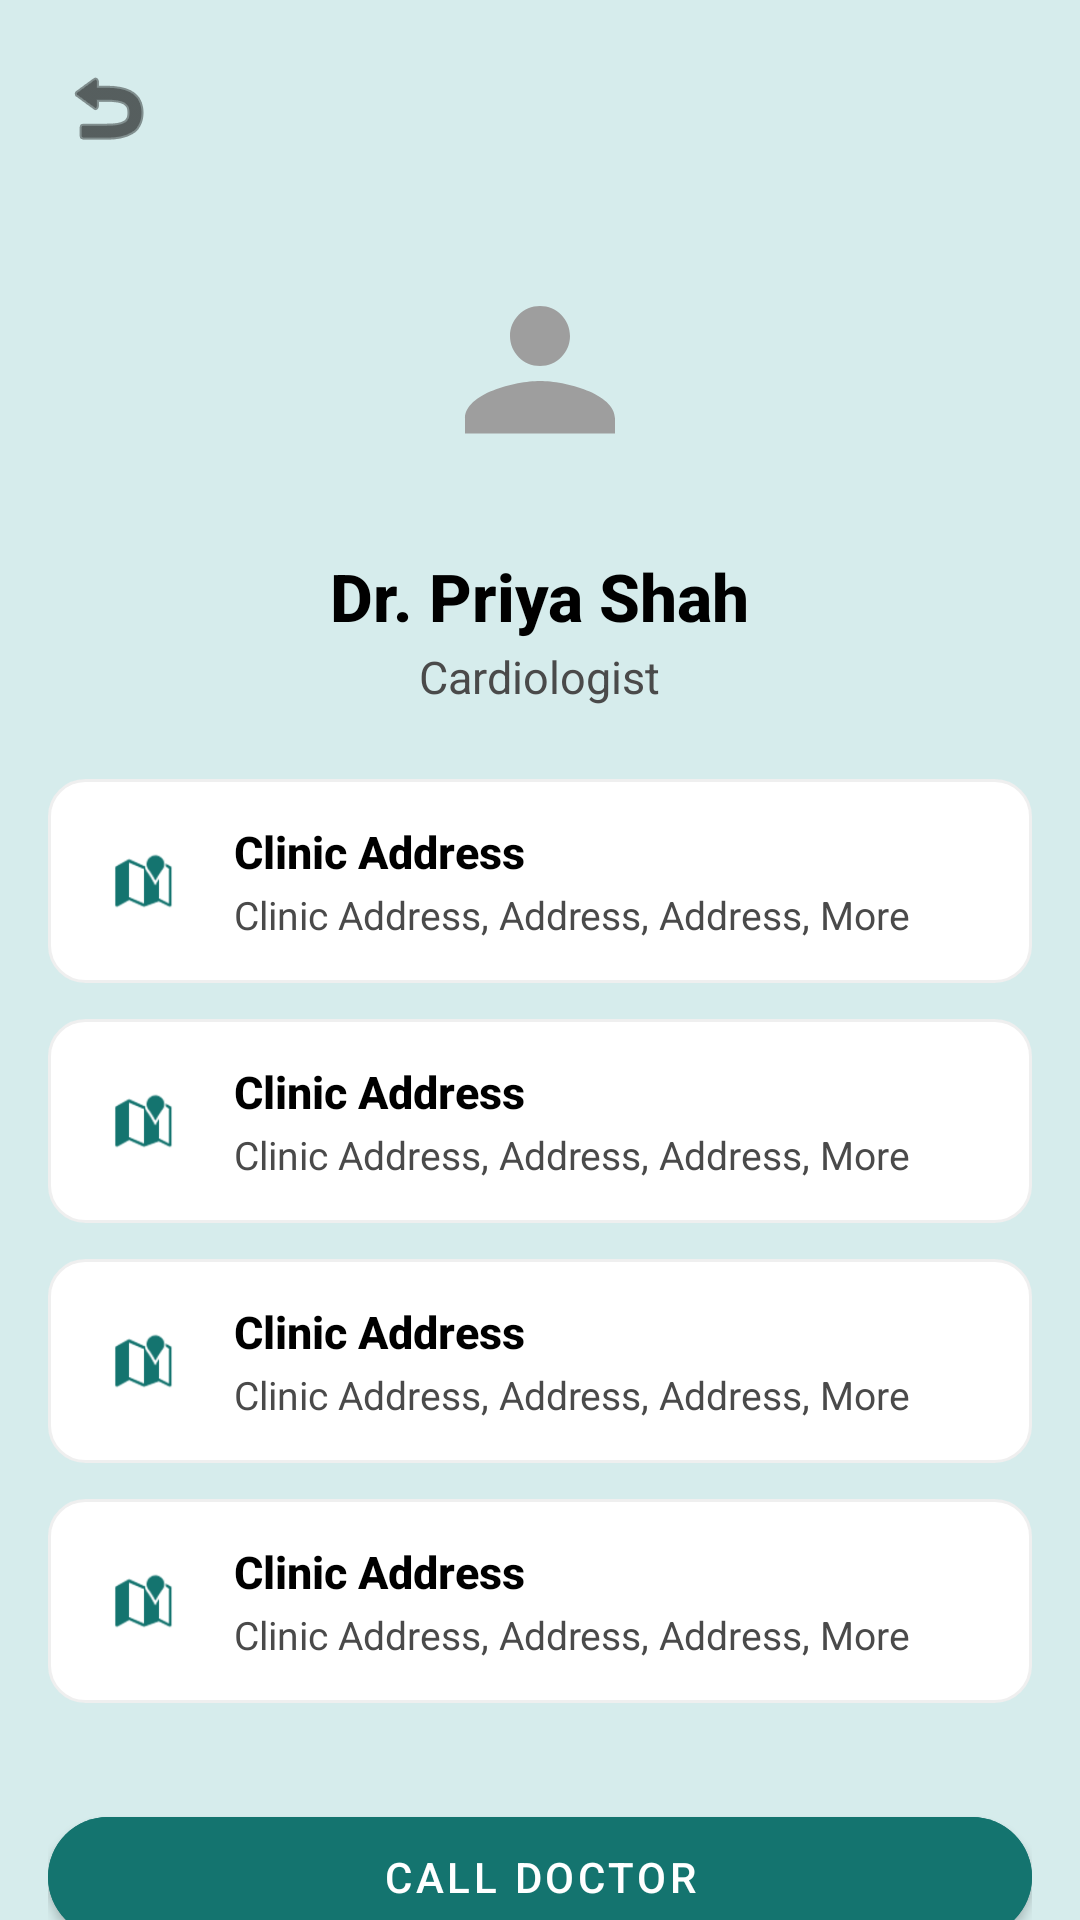

Named icons in this screenshot (1080px×1920px) and their bounding boxes, (x1, y1, x2, y2):
map: (115, 854, 172, 907), (115, 1094, 172, 1147), (115, 1334, 172, 1387), (115, 1574, 172, 1627)
person: (465, 306, 615, 434)
revert: (75, 77, 144, 140)
